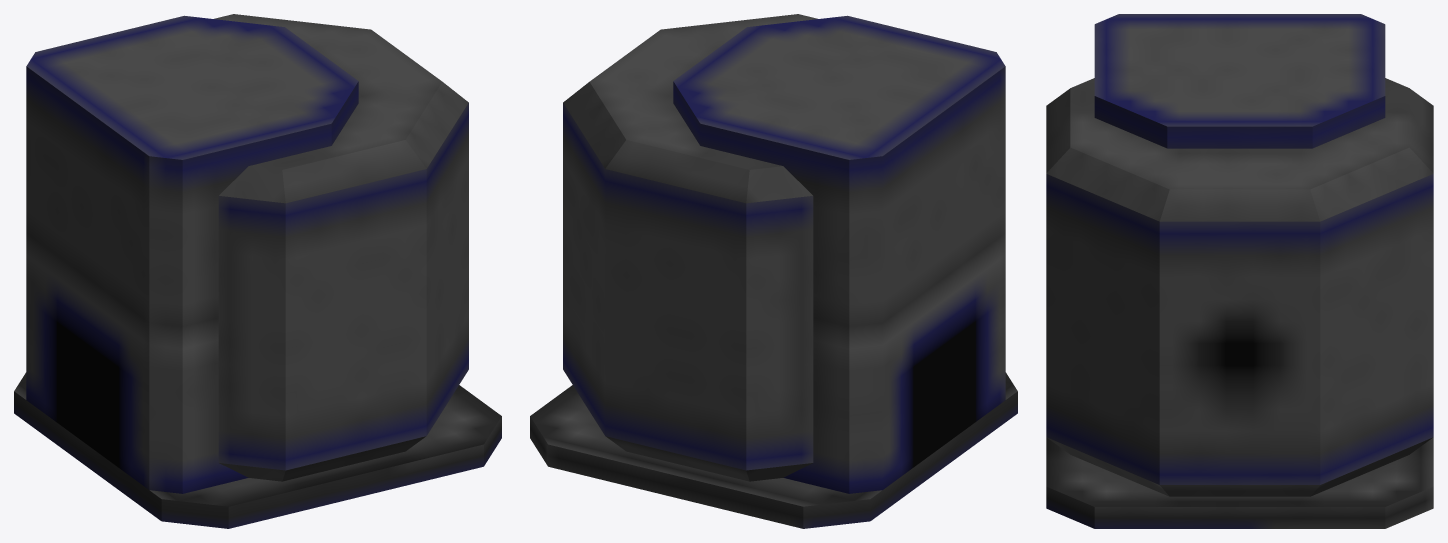
File: advancedAirCompressor.obj
3 renders of one model, left to right at view 1: azimuth 30°, elevation 25°; view 2: azimuth 150°, elevation 25°; view 3: azimuth 270°, elevation 25°, orthographic.
Visible parts, largest first — view 1: Group_002, Group_001, Group_003; view 2: Group_002, Group_001, Group_003; view 3: Group_001, Group_002, Group_003.
Boxes of the visible parts, x1,y1,x2,y2 form: Group_002: [26, 15, 358, 493]; Group_001: [214, 14, 468, 481]; Group_003: [14, 372, 501, 528]; Group_002: [673, 15, 1005, 493]; Group_001: [563, 14, 817, 481]; Group_003: [530, 372, 1017, 528]; Group_001: [1046, 78, 1433, 496]; Group_002: [1094, 14, 1385, 148]; Group_003: [1046, 437, 1433, 528].
Bounding box in the file's own units: 16 × 16 × 16.
